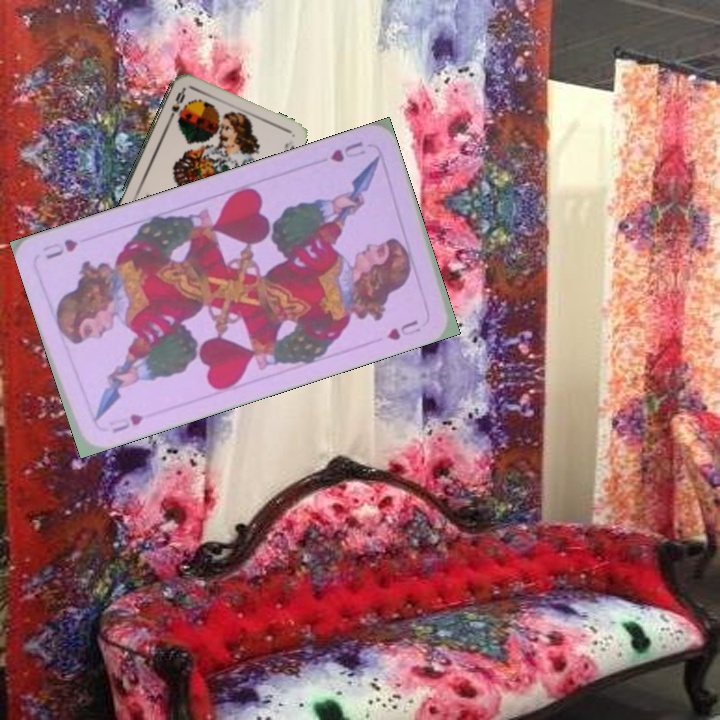HU: (326, 137, 368, 165), (105, 409, 146, 436)
SO: (164, 85, 188, 124)
